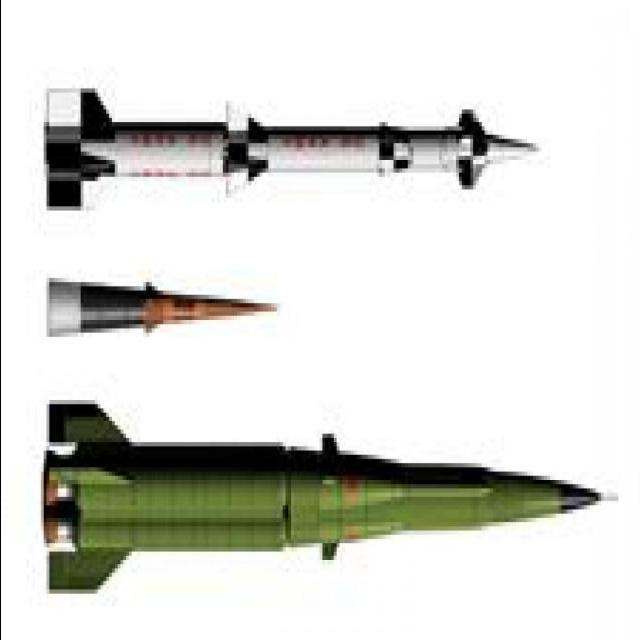missile: (38, 390, 618, 603), (35, 94, 548, 219), (30, 264, 292, 350)
